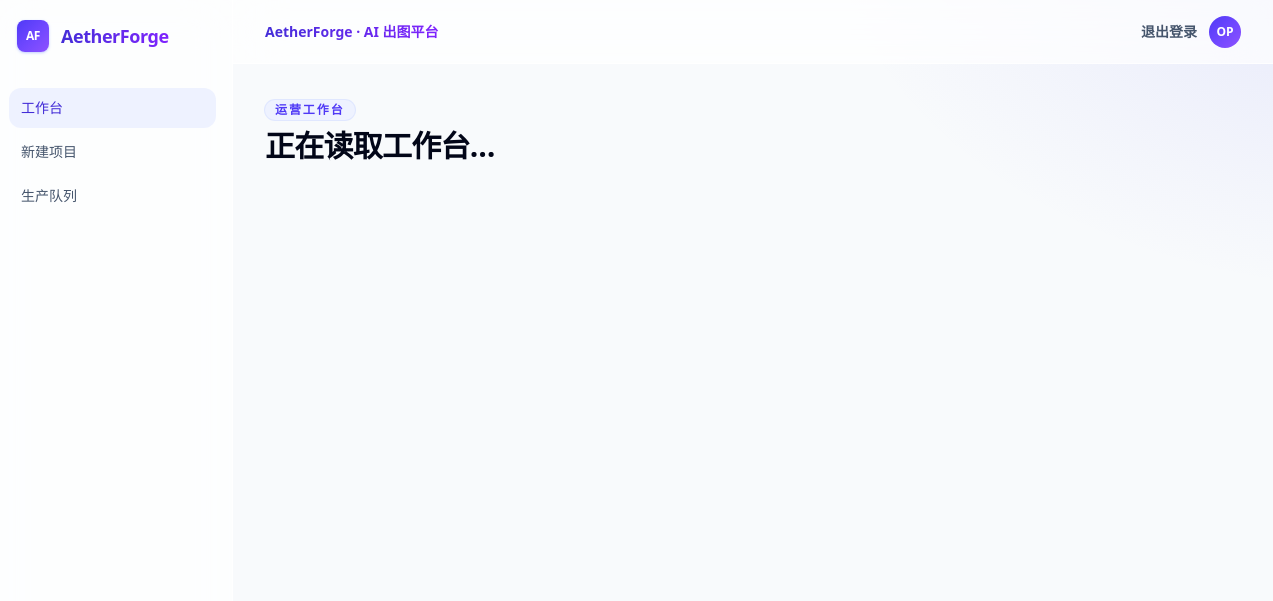
shows a logout error and stays on the page when logout fails
Click the button "退出登录": (1169, 32) [1141, 22, 1197, 42]
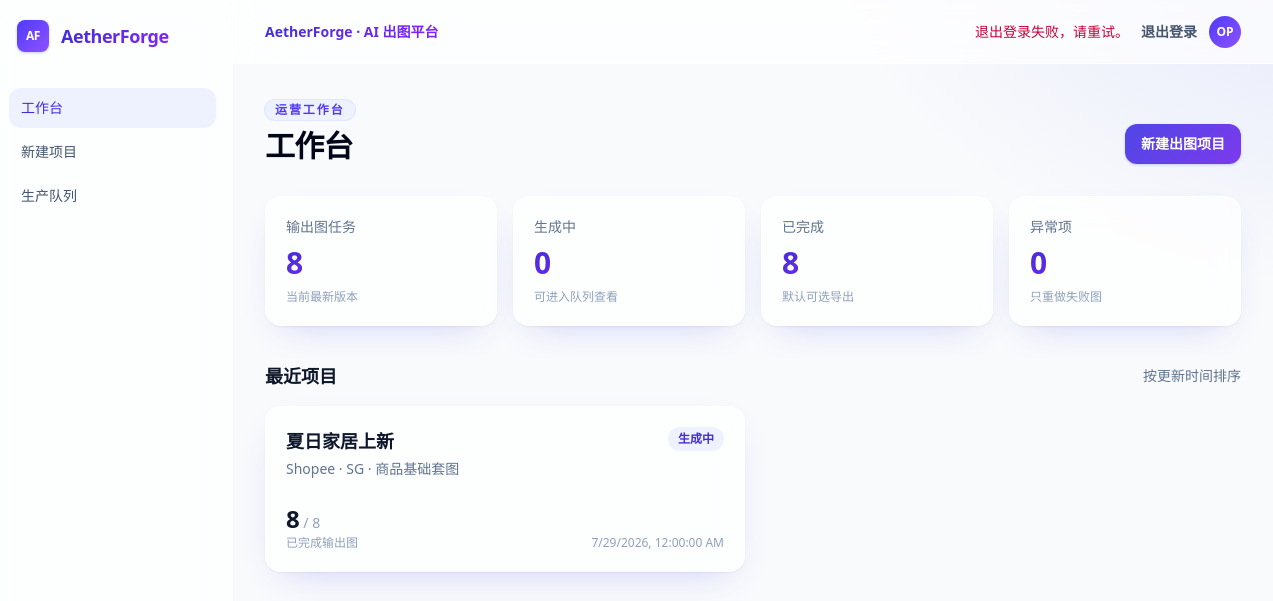
Check: the heading "工作台" is shown, box [265, 128, 355, 164]
Check: the message reads "退出登录失败，请重试。", box [975, 22, 1129, 40]
